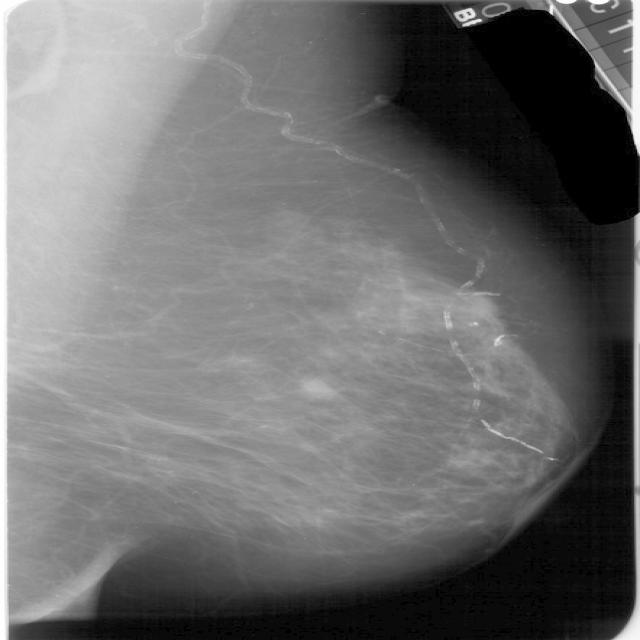tumour: (298, 376, 338, 402)
